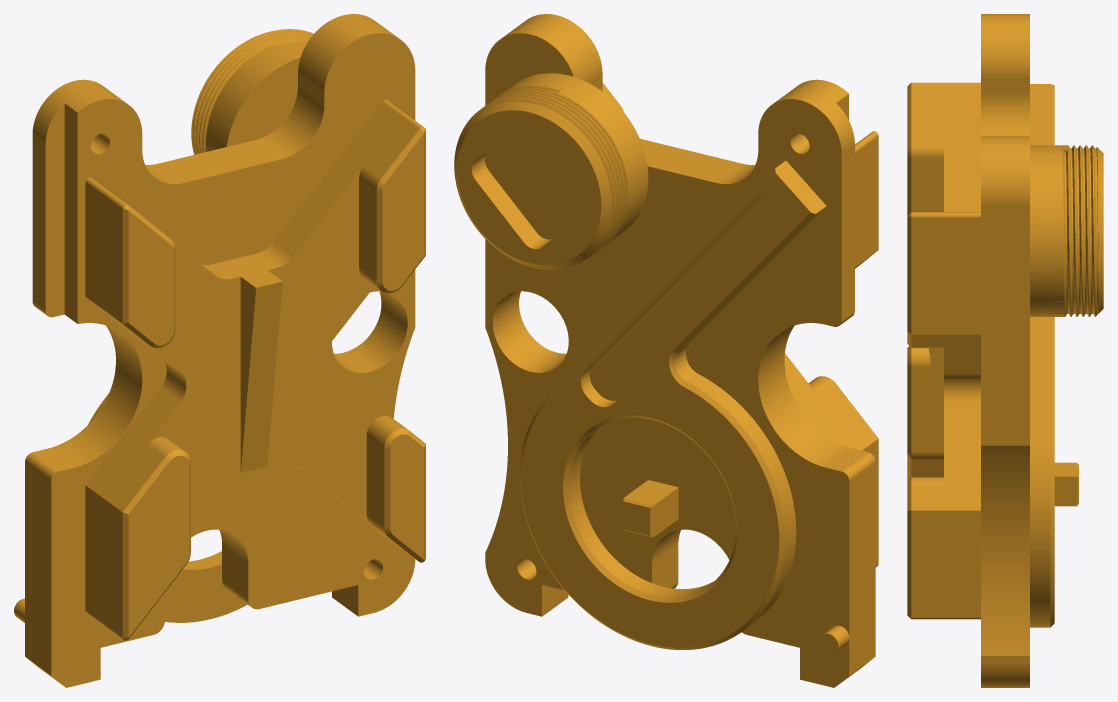
3 views of the same model, side by side, from view 1: azimuth 30°, elevation 25°; view 2: azimuth 150°, elevation 25°; view 3: azimuth 270°, elevation 25° (orthographic). The views are drawn at different scales.
Bounding box in the file's own units: 96 × 146 × 48.
